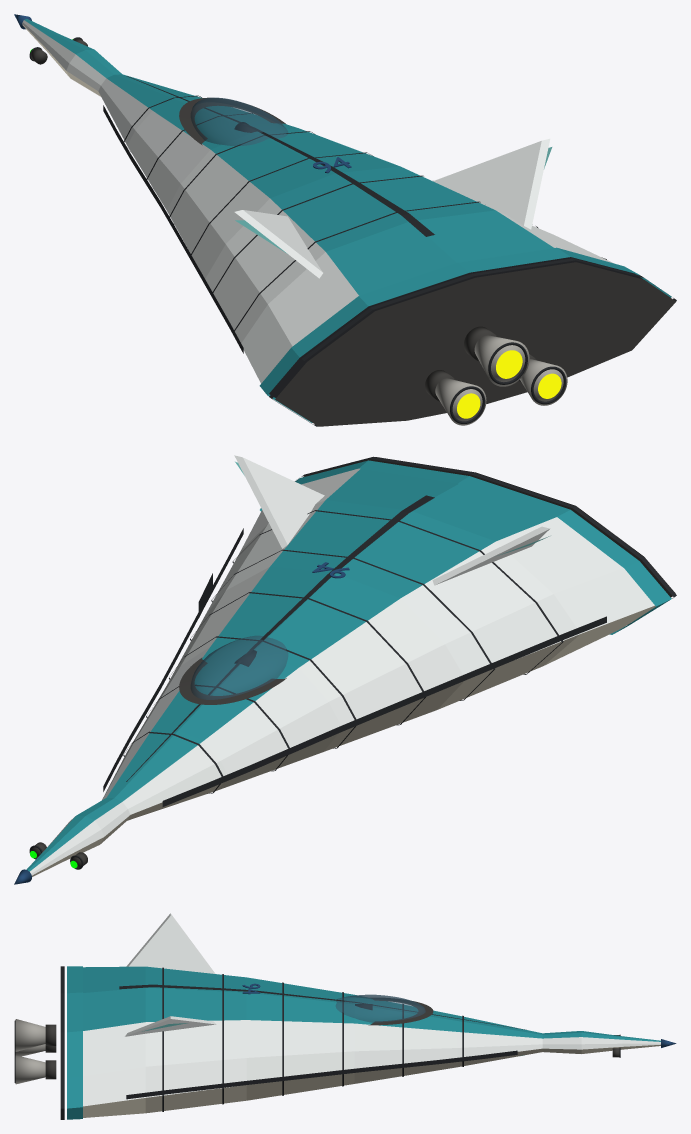
The model's file is Ship_PyramidLifter_741828.glb.
3 views of the same model, one above another, from view 1: azimuth 30°, elevation 25°; view 2: azimuth 150°, elevation 25°; view 3: azimuth 270°, elevation 25° (orthographic). The views are drawn at different scales.
Visible parts, largest first — view 1: Fuselage_MainPyramidalLiftingBody, EngineDeck_AftFacetedDarkMountPlate, EngineDeck_AftOuterArmorCollar, TailFin_Right_ShortCantedStabilizer, CanopyGlass_LowInsetSmokedDome, Nose_FacetedRamNeedle, TailFin_Left_ShortCantedStabilizer, EngineEmitter, EngineDeck_AftDarkCompressionSeal, CanopyFrame_LowInsetArmoredOvalRim, EngineBell_CenterUpper_BurnishedNozzle, HullLongitudinalSeam_DorsalRidgeDarkLine (+3 smaller); view 2: Fuselage_MainPyramidalLiftingBody, EngineDeck_AftOuterArmorCollar, CanopyGlass_LowInsetSmokedDome, TailFin_Right_ShortCantedStabilizer, Nose_FacetedRamNeedle, SideChinePanel_Left_LongDarkArmorJoint, HullLongitudinalSeam_DorsalRidgeDarkLine, EngineDeck_AftDarkCompressionSeal, CanopyFrame_LowInsetArmoredOvalRim, EngineDeck_AftFacetedDarkMountPlate, TailFin_Left_ShortCantedStabilizer, SideChinePanel_Right_LongDarkArmorJoint (+1 smaller); view 3: Fuselage_MainPyramidalLiftingBody, TailFin_Left_ShortCantedStabilizer, EngineDeck_AftOuterArmorCollar, Nose_FacetedRamNeedle, CanopyGlass_LowInsetSmokedDome, SideChinePanel_Right_LongDarkArmorJoint, TailFin_Right_ShortCantedStabilizer, EngineBell_CenterUpper_BurnishedNozzle, HullLongitudinalSeam_DorsalRidgeDarkLine, EngineDeck_AftDarkCompressionSeal, EngineBell_RightLower_BurnishedNozzle, CanopyFrame_LowInsetArmoredOvalRim.
Boxes of the visible parts, bbox=[...] form: Fuselage_MainPyramidalLiftingBody: bbox=[98, 74, 642, 397]; EngineDeck_AftFacetedDarkMountPlate: bbox=[275, 262, 676, 426]; EngineDeck_AftOuterArmorCollar: bbox=[259, 247, 671, 422]; TailFin_Right_ShortCantedStabilizer: bbox=[433, 138, 550, 229]; CanopyGlass_LowInsetSmokedDome: bbox=[190, 97, 288, 146]; Nose_FacetedRamNeedle: bbox=[22, 19, 121, 96]; TailFin_Left_ShortCantedStabilizer: bbox=[234, 210, 322, 278]; EngineEmitter: bbox=[457, 350, 561, 418]; EngineDeck_AftDarkCompressionSeal: bbox=[269, 258, 676, 426]; CanopyFrame_LowInsetArmoredOvalRim: bbox=[179, 97, 285, 145]; EngineBell_CenterUpper_BurnishedNozzle: bbox=[474, 335, 529, 386]; HullLongitudinalSeam_DorsalRidgeDarkLine: bbox=[126, 76, 434, 236]; Fuselage_MainPyramidalLiftingBody: bbox=[102, 468, 655, 820]; EngineDeck_AftOuterArmorCollar: bbox=[260, 460, 671, 634]; CanopyGlass_LowInsetSmokedDome: bbox=[190, 635, 288, 699]; TailFin_Right_ShortCantedStabilizer: bbox=[234, 455, 324, 548]; Nose_FacetedRamNeedle: bbox=[26, 798, 130, 876]; SideChinePanel_Left_LongDarkArmorJoint: bbox=[162, 616, 606, 806]; HullLongitudinalSeam_DorsalRidgeDarkLine: bbox=[126, 495, 434, 781]; EngineDeck_AftDarkCompressionSeal: bbox=[298, 456, 676, 598]; CanopyFrame_LowInsetArmoredOvalRim: bbox=[179, 657, 286, 704]; EngineDeck_AftFacetedDarkMountPlate: bbox=[303, 457, 675, 597]; TailFin_Left_ShortCantedStabilizer: bbox=[432, 526, 549, 585]; SideChinePanel_Right_LongDarkArmorJoint: bbox=[103, 528, 243, 791]; Fuselage_MainPyramidalLiftingBody: bbox=[83, 966, 542, 1117]; TailFin_Left_ShortCantedStabilizer: bbox=[126, 913, 215, 973]; EngineDeck_AftOuterArmorCollar: bbox=[67, 966, 82, 1119]; Nose_FacetedRamNeedle: bbox=[542, 1031, 660, 1053]; CanopyGlass_LowInsetSmokedDome: bbox=[335, 994, 425, 1022]; SideChinePanel_Right_LongDarkArmorJoint: bbox=[126, 1050, 517, 1099]; TailFin_Right_ShortCantedStabilizer: bbox=[125, 1016, 216, 1036]; EngineBell_CenterUpper_BurnishedNozzle: bbox=[15, 1019, 45, 1051]; HullLongitudinalSeam_DorsalRidgeDarkLine: bbox=[119, 984, 526, 1029]; EngineDeck_AftDarkCompressionSeal: bbox=[60, 966, 64, 1119]; EngineBell_RightLower_BurnishedNozzle: bbox=[15, 1055, 45, 1084]; CanopyFrame_LowInsetArmoredOvalRim: bbox=[368, 998, 433, 1025].
Size of the model in its own units: 3.46 by 1.47 by 7.32.
